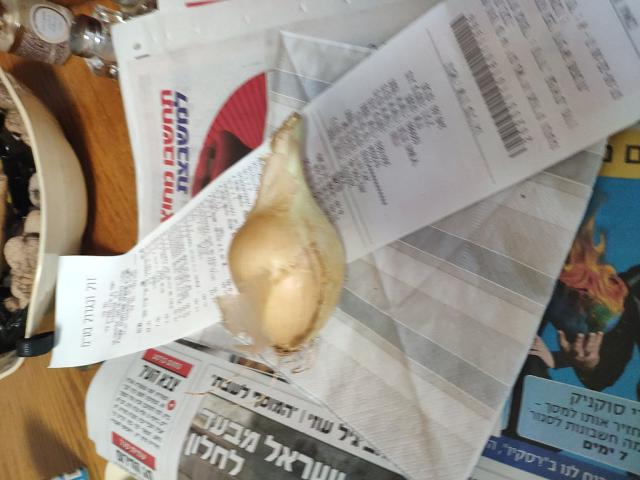onion: (219, 141, 349, 359)
